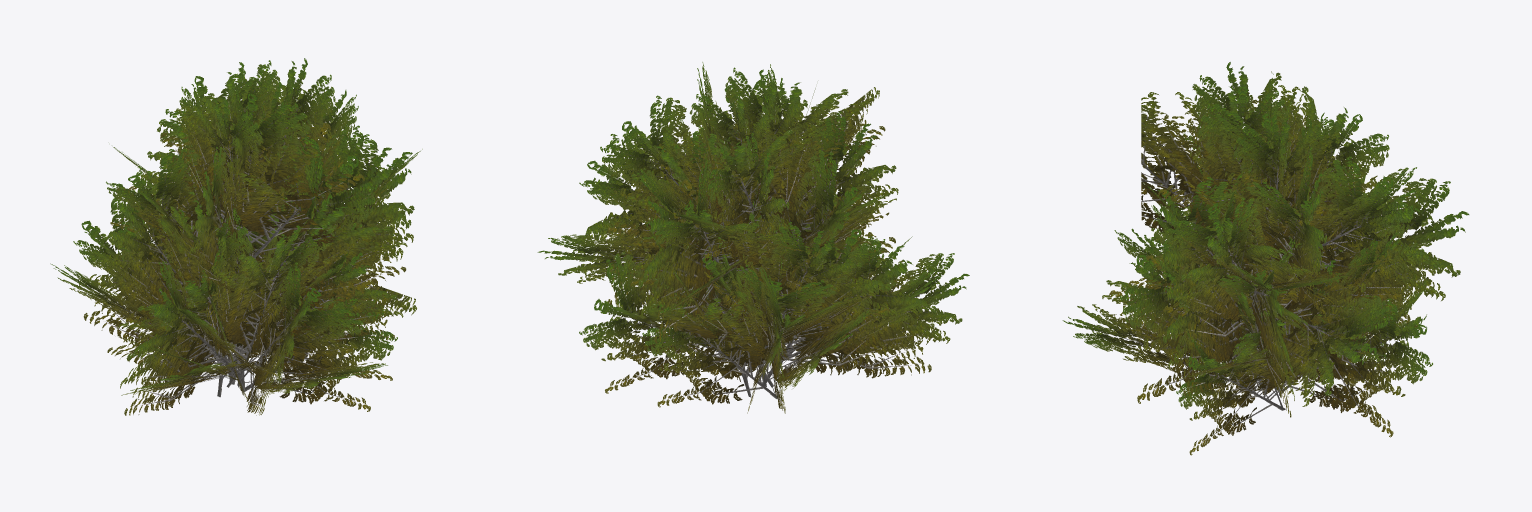
The model's file is genericBush_02.dae.
3 views of the same model, side by side, from view 1: azimuth 30°, elevation 25°; view 2: azimuth 150°, elevation 25°; view 3: azimuth 270°, elevation 25° (orthographic). The views are drawn at different scales.
Visible parts, largest first — view 1: genericBushTwo256, genericBushTwo128; view 2: genericBushTwo256, genericBushTwo128; view 3: genericBushTwo256, genericBushTwo128.
Part boxes in pixels (bbox=[...]): genericBushTwo256: bbox=[73, 69, 422, 415]; genericBushTwo128: bbox=[50, 58, 416, 415]; genericBushTwo256: bbox=[578, 64, 941, 413]; genericBushTwo128: bbox=[537, 62, 969, 410]; genericBushTwo256: bbox=[1102, 84, 1439, 455]; genericBushTwo128: bbox=[1062, 62, 1469, 415].
Size of the model in its own units: 28.7 by 26.6 by 25.65.
